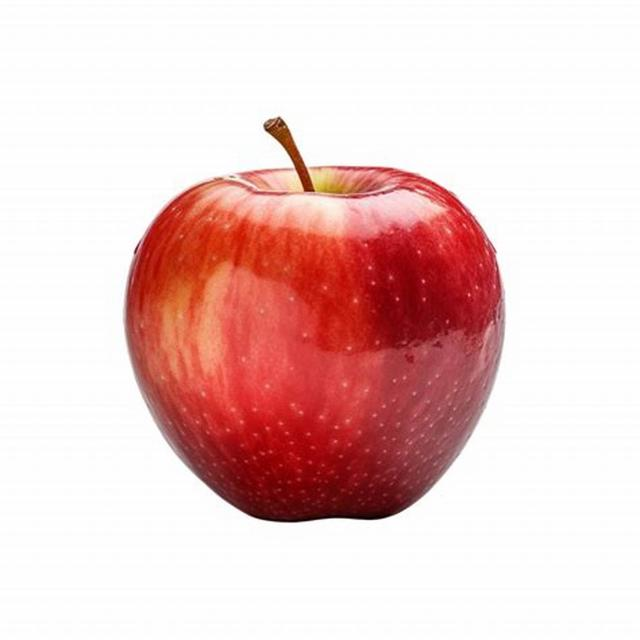Apple: (122, 118, 506, 522)
